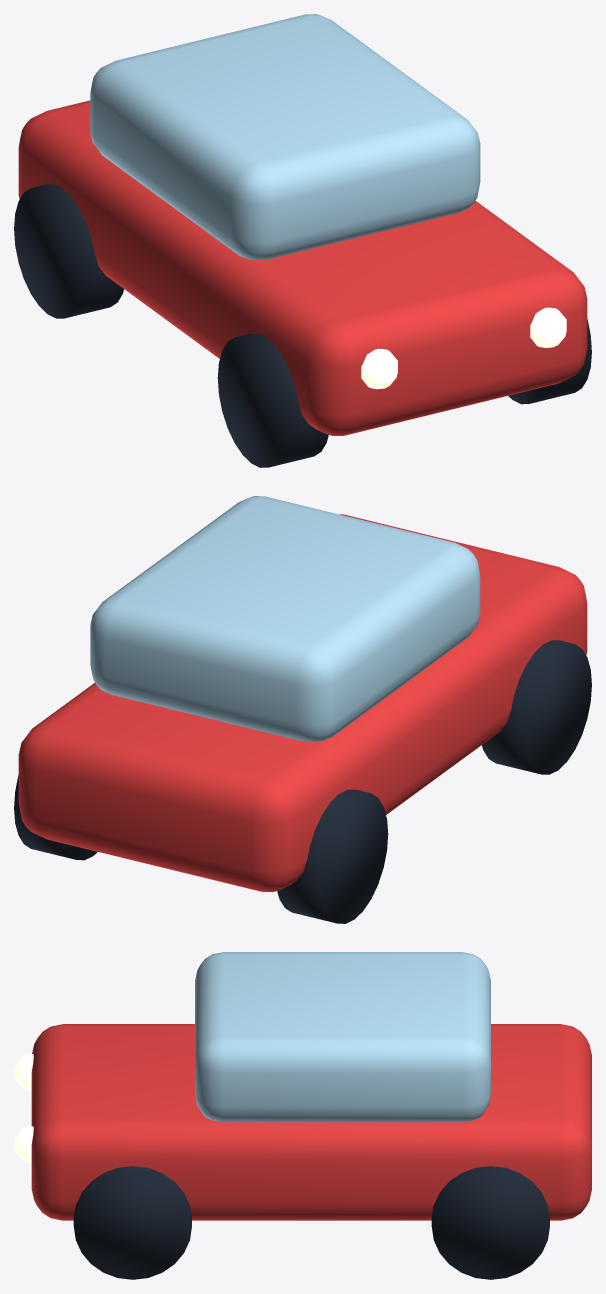
Rendered from car.glb.
The picture shows the model from 3 angles, top to bottom: view 1: azimuth 30°, elevation 25°; view 2: azimuth 150°, elevation 25°; view 3: azimuth 270°, elevation 25°; orthographic projection. The views are drawn at different scales.
Parts seen in each view (by area): view 1: Body, Cabin, Wheel, Wheel.001, Wheel.002, Light.001, Light; view 2: Body, Cabin, Wheel.001, Wheel, Wheel.003; view 3: Body, Cabin, Wheel.003, Wheel.002, Light.001, Light.
Part boxes in pixels (x1=…): Body: x1=18, y1=100, x2=587, y2=435; Cabin: x1=90, y1=14, x2=480, y2=260; Wheel: x1=217, y1=333, x2=328, y2=467; Wheel.001: x1=14, y1=184, x2=123, y2=318; Wheel.002: x1=508, y1=319, x2=591, y2=404; Light.001: x1=530, y1=307, x2=566, y2=347; Light: x1=361, y1=348, x2=397, y2=389; Body: x1=18, y1=514, x2=587, y2=891; Cabin: x1=90, y1=496, x2=480, y2=741; Wheel.001: x1=277, y1=789, x2=388, y2=923; Wheel: x1=482, y1=640, x2=591, y2=774; Wheel.003: x1=14, y1=775, x2=97, y2=860; Body: x1=31, y1=1024, x2=591, y2=1220; Cabin: x1=195, y1=952, x2=490, y2=1122; Wheel.003: x1=431, y1=1166, x2=549, y2=1279; Wheel.002: x1=73, y1=1166, x2=191, y2=1279; Light.001: x1=14, y1=1126, x2=33, y2=1162; Light: x1=14, y1=1054, x2=33, y2=1090.
Size of the model in its own units: 2 by 1.55 by 3.71.
